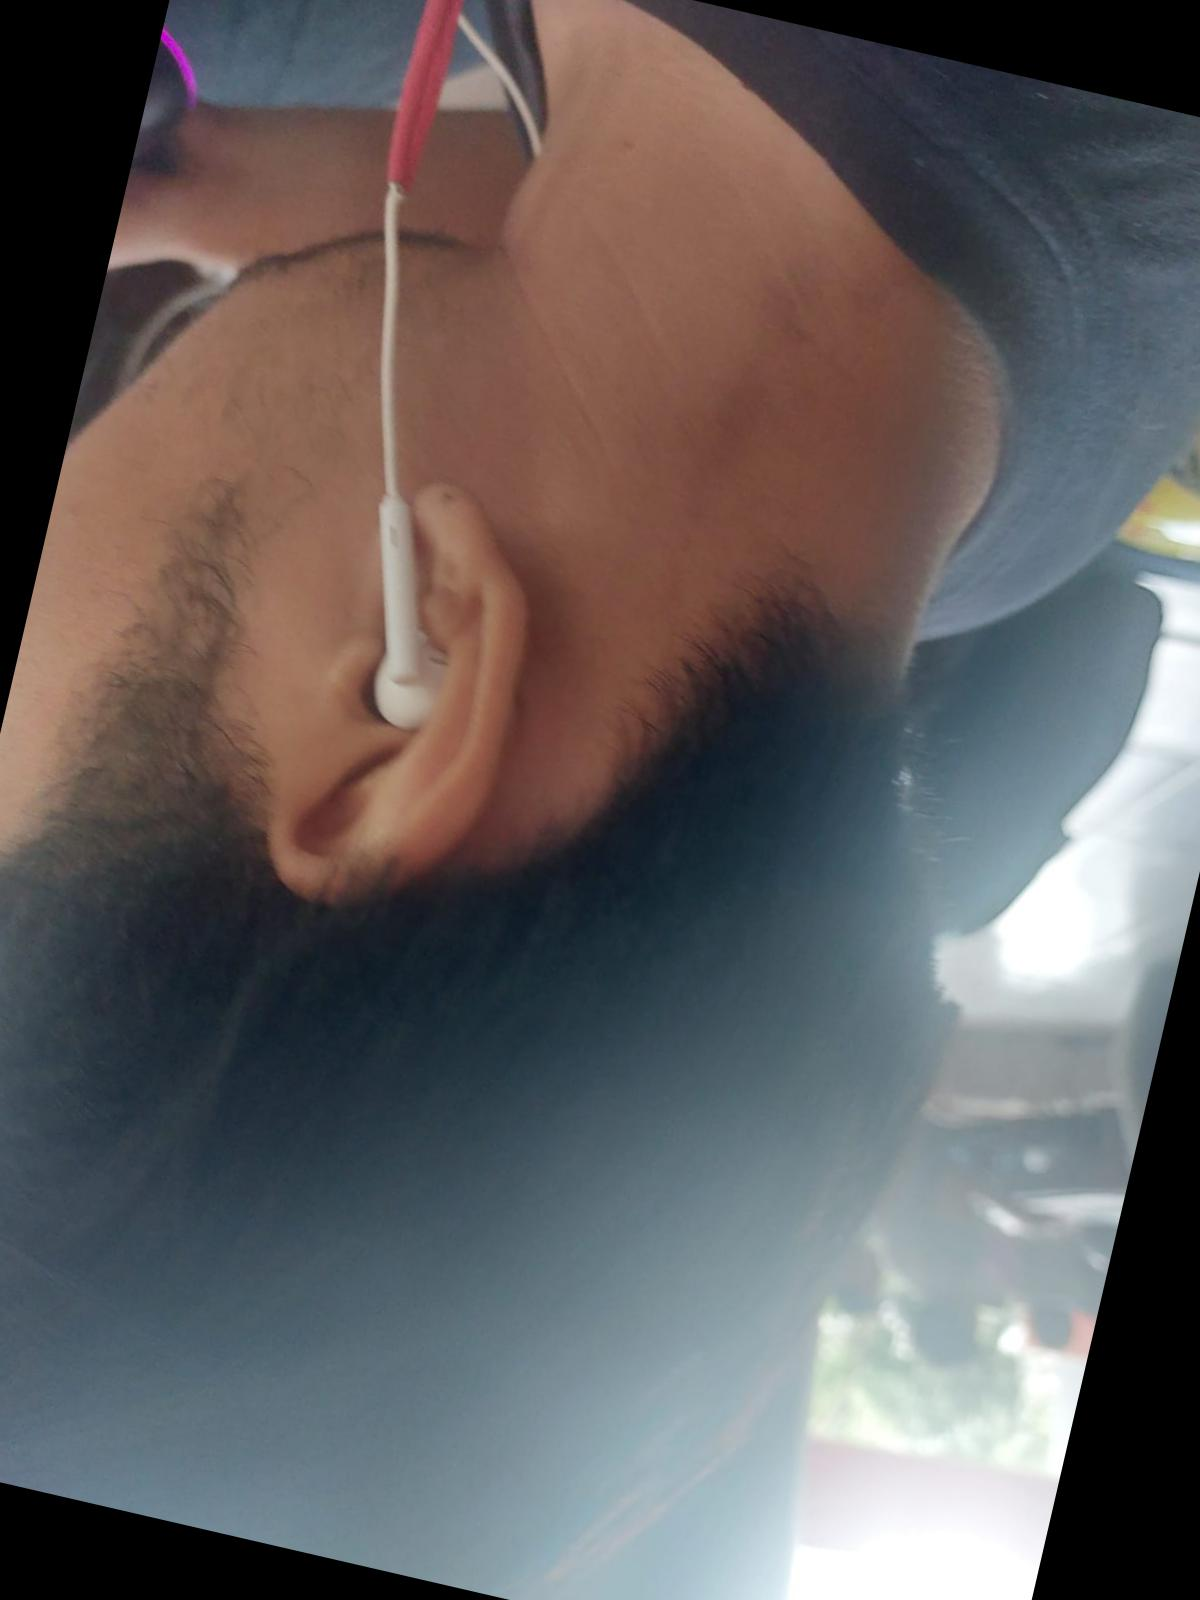Earphone: (285, 430, 519, 784)
